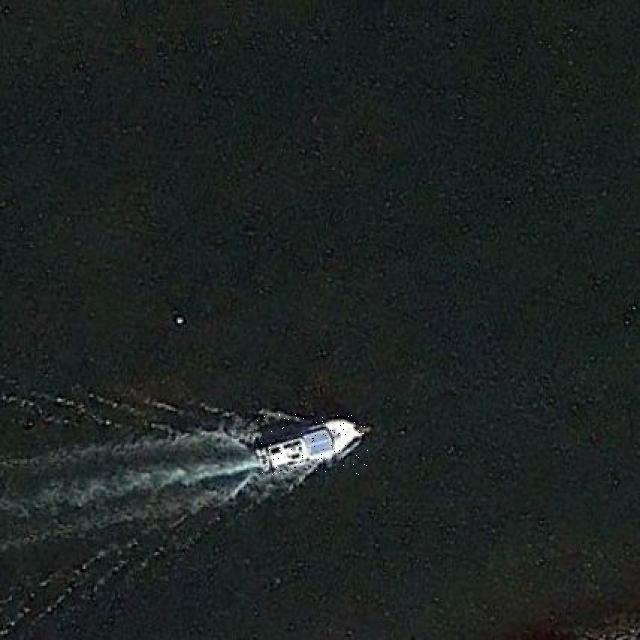boat: (253, 414, 369, 475)
